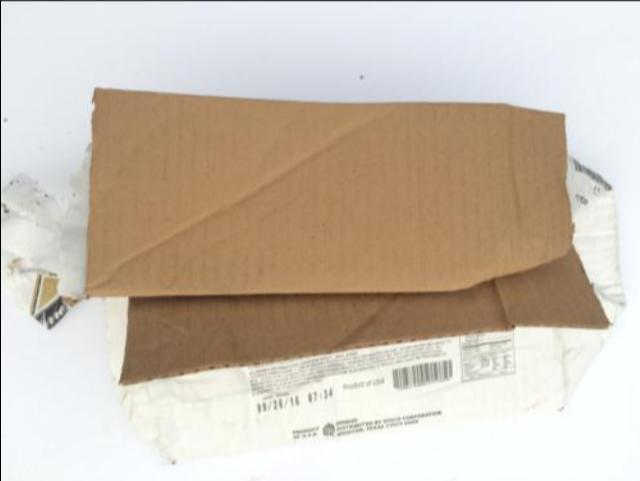cardboard paper: (88, 91, 609, 385)
